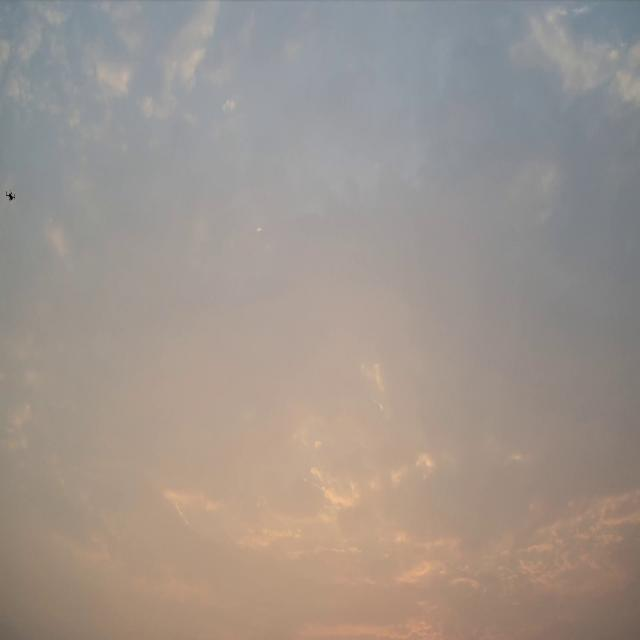drone: (5, 189, 15, 202)
